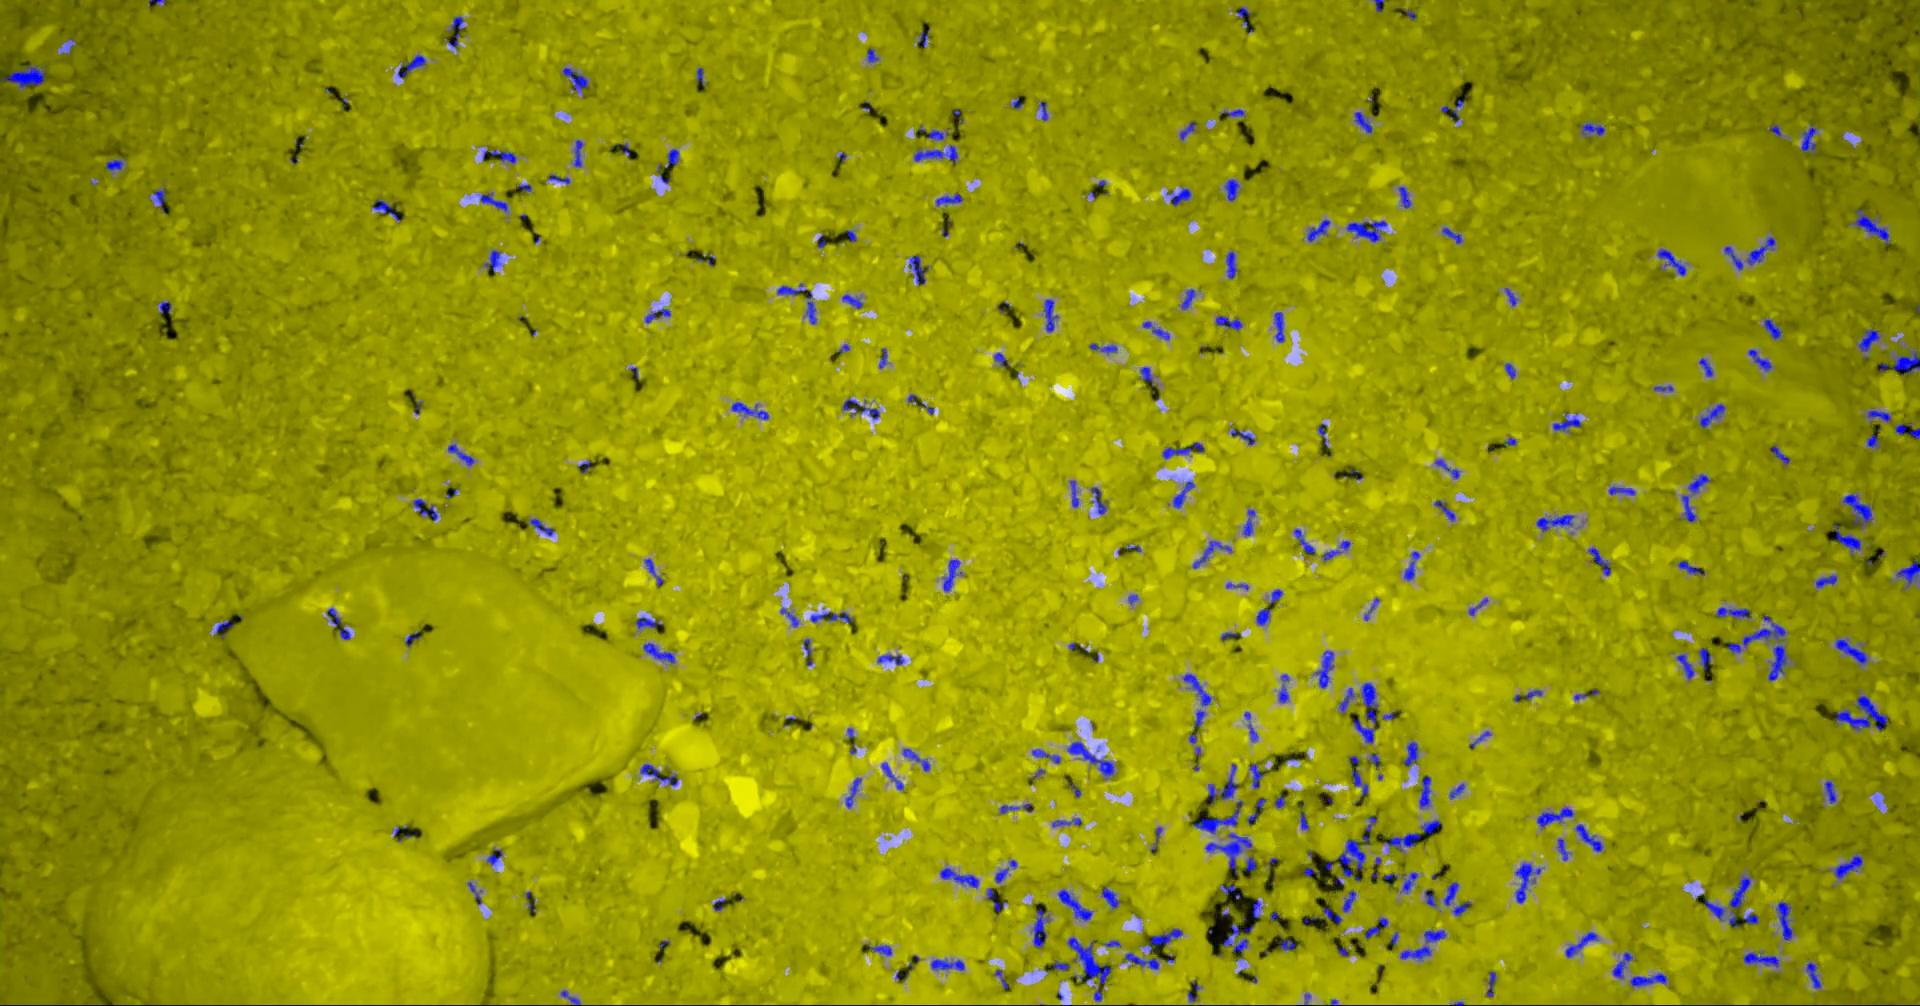ant: (1727, 615, 1785, 653), (1067, 936, 1110, 983), (1204, 833, 1251, 874), (1835, 695, 1887, 730), (1067, 741, 1114, 777), (1192, 800, 1242, 833), (1352, 682, 1378, 743), (1399, 929, 1445, 959), (1851, 208, 1890, 244), (1333, 840, 1365, 882), (1222, 922, 1255, 958), (1208, 763, 1236, 805), (1514, 862, 1542, 903), (1728, 876, 1750, 927), (1192, 540, 1230, 568), (1057, 889, 1091, 920), (1843, 493, 1872, 527), (0, 65, 44, 86), (1256, 589, 1283, 625), (1346, 220, 1385, 243), (1183, 673, 1211, 705), (1746, 236, 1775, 265), (1832, 525, 1860, 555), (1145, 929, 1182, 951), (1564, 931, 1597, 956), (639, 763, 677, 785), (1657, 248, 1686, 276), (1835, 639, 1867, 664), (842, 398, 879, 419), (913, 145, 957, 163), (1575, 823, 1603, 851), (1349, 754, 1368, 795), (1537, 807, 1575, 827), (326, 607, 350, 639), (938, 868, 978, 887), (1832, 854, 1862, 879), (643, 641, 676, 663), (1167, 481, 1194, 508), (1383, 832, 1420, 851), (1162, 442, 1204, 459), (1768, 644, 1787, 680), (1316, 650, 1333, 688), (731, 401, 768, 419), (1775, 901, 1792, 940), (1032, 908, 1049, 948), (371, 199, 403, 220), (1892, 351, 1919, 375), (397, 55, 425, 77), (1587, 547, 1610, 575), (1896, 559, 1919, 587), (902, 748, 930, 771), (1535, 514, 1573, 531), (1699, 403, 1724, 427), (1124, 951, 1158, 969), (1321, 540, 1350, 560), (881, 762, 903, 789), (943, 559, 961, 591), (908, 255, 927, 285), (1552, 412, 1581, 431), (563, 67, 587, 90), (1305, 218, 1330, 241), (1293, 528, 1316, 553), (447, 443, 472, 465), (411, 498, 437, 520), (1611, 951, 1632, 978), (1743, 951, 1779, 967), (479, 192, 507, 211), (1142, 320, 1170, 339), (644, 558, 663, 586), (447, 17, 463, 48), (1857, 328, 1879, 351), (1441, 98, 1463, 122), (1747, 349, 1771, 371), (810, 611, 855, 622), (483, 147, 516, 163), (1247, 796, 1265, 824), (657, 149, 678, 171), (1688, 473, 1710, 494), (994, 859, 1016, 882), (1434, 459, 1459, 478), (985, 887, 1004, 912), (844, 777, 861, 807), (1629, 973, 1666, 986), (1434, 499, 1455, 521), (1703, 898, 1724, 920), (1364, 917, 1387, 937), (1043, 298, 1057, 332), (1090, 486, 1106, 514), (1723, 246, 1742, 271), (1403, 551, 1418, 580), (1031, 748, 1060, 763), (1804, 962, 1821, 988), (1361, 815, 1377, 843), (1166, 188, 1191, 205), (1676, 653, 1693, 678), (1352, 111, 1371, 132), (1243, 711, 1257, 741), (644, 307, 670, 323), (1215, 315, 1242, 330), (1677, 560, 1704, 575), (1895, 422, 1919, 438), (1230, 428, 1255, 445), (530, 518, 554, 535), (805, 290, 817, 324), (930, 959, 964, 970), (1801, 127, 1816, 152), (1763, 319, 1782, 339), (1403, 741, 1418, 766), (1101, 887, 1119, 908), (484, 249, 500, 272), (1338, 687, 1354, 711), (1250, 763, 1265, 788), (1418, 776, 1430, 808), (780, 607, 797, 627), (1716, 607, 1751, 617), (935, 192, 963, 205), (1681, 495, 1695, 521), (1581, 122, 1604, 137), (776, 283, 806, 295), (1272, 311, 1284, 342), (1443, 882, 1458, 904), (152, 187, 165, 213), (1771, 445, 1789, 464), (1322, 906, 1341, 923), (999, 803, 1032, 813), (1401, 873, 1417, 893), (1088, 342, 1117, 353), (1224, 178, 1239, 199), (1242, 509, 1255, 535), (467, 882, 481, 904), (215, 619, 232, 636), (1178, 119, 1195, 138), (1441, 227, 1462, 243), (560, 989, 580, 1005), (841, 293, 862, 307), (1218, 884, 1239, 898), (1051, 817, 1081, 827), (1698, 357, 1713, 376), (1698, 647, 1710, 669), (877, 653, 903, 664), (1421, 819, 1440, 835), (1608, 485, 1636, 495), (1277, 674, 1288, 702), (867, 944, 891, 955), (1815, 574, 1836, 587), (1557, 838, 1570, 860), (1225, 251, 1236, 278), (635, 617, 662, 627), (1398, 185, 1410, 208), (1867, 410, 1890, 422), (1823, 780, 1835, 803), (1181, 288, 1194, 309), (1192, 709, 1205, 729), (1342, 890, 1355, 911), (1449, 782, 1464, 799), (573, 138, 582, 166), (1503, 287, 1517, 305), (803, 638, 811, 666), (1451, 901, 1469, 915), (917, 28, 930, 47), (1069, 480, 1078, 507), (1299, 803, 1308, 829), (1486, 970, 1495, 997), (993, 352, 1008, 367), (405, 631, 420, 647), (486, 848, 502, 864), (1251, 898, 1262, 918), (1279, 936, 1295, 950), (1139, 367, 1152, 385), (1423, 889, 1436, 906), (105, 159, 123, 170), (1865, 433, 1878, 448), (926, 130, 947, 138), (1503, 362, 1515, 379), (877, 348, 886, 368), (159, 300, 171, 314), (1219, 109, 1244, 116), (866, 48, 877, 62), (1274, 793, 1285, 807), (1051, 962, 1069, 970), (1244, 856, 1255, 871), (1742, 913, 1757, 923)
